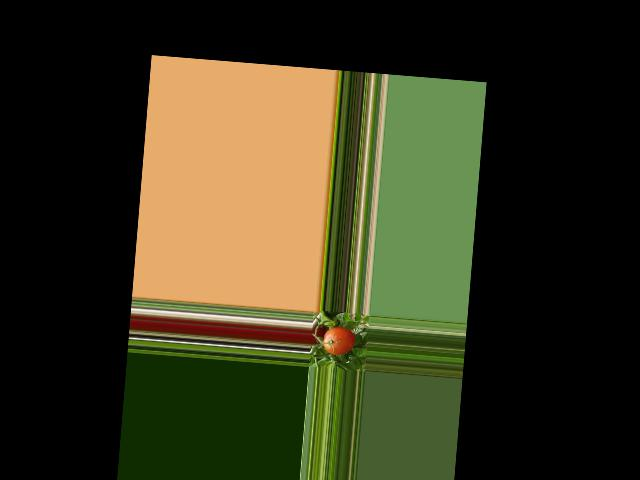tomato: (322, 326, 355, 356)
